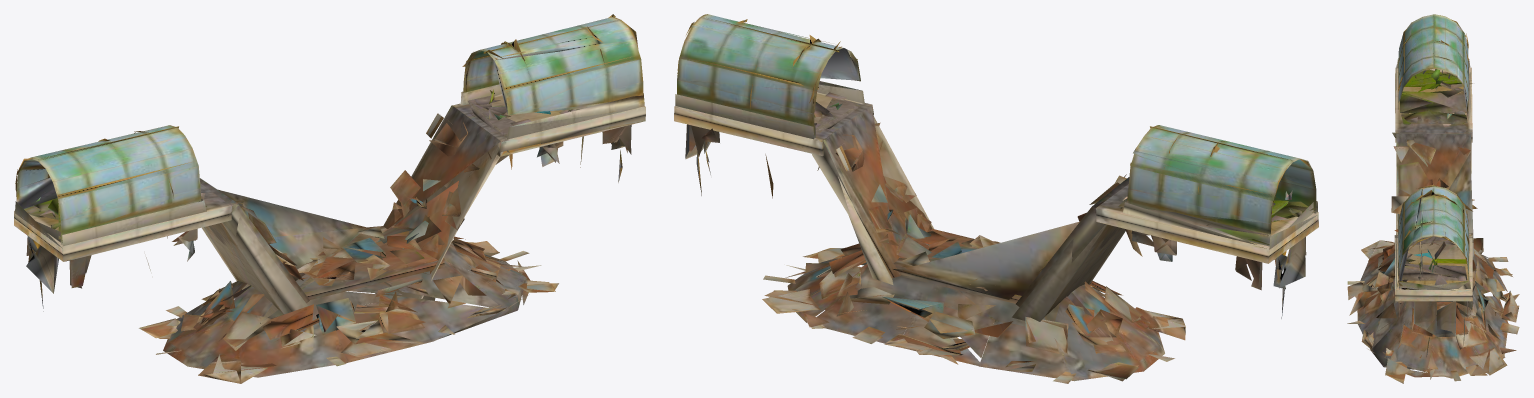
Rendered from skybridge-collapsed.lod1.glb.
3 views of the same model, side by side, from view 1: azimuth 30°, elevation 25°; view 2: azimuth 150°, elevation 25°; view 3: azimuth 270°, elevation 25° (orthographic). The views are drawn at different scales.
Parts seen in each view (by area): view 1: skybridge-collapsed_lod1; view 2: skybridge-collapsed_lod1; view 3: skybridge-collapsed_lod1.
Boxes of the visible parts, x1,y1,x2,y2 form: skybridge-collapsed_lod1: [14, 14, 645, 383]; skybridge-collapsed_lod1: [674, 14, 1318, 383]; skybridge-collapsed_lod1: [1347, 14, 1519, 383].
Bounding box in the file's own units: 12.13 × 4.77 × 3.96.
Materials: 1 (1 with a texture image).
